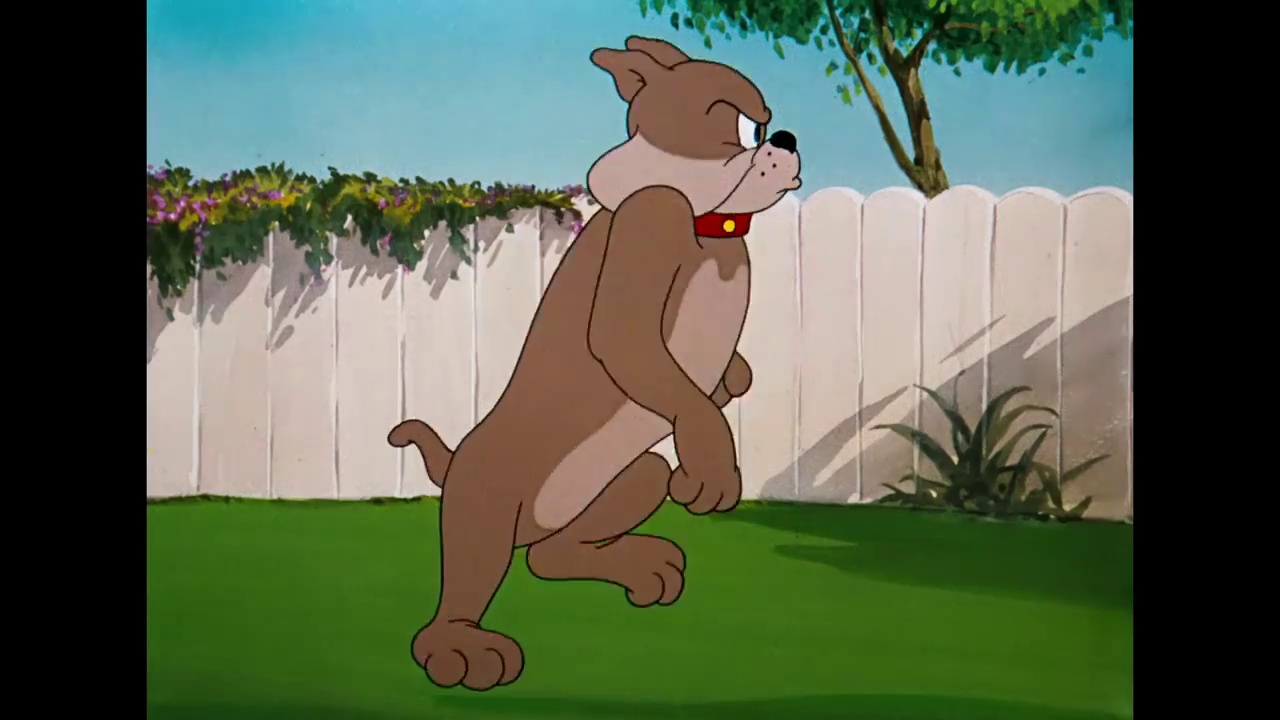spike: (585, 30, 815, 237)
